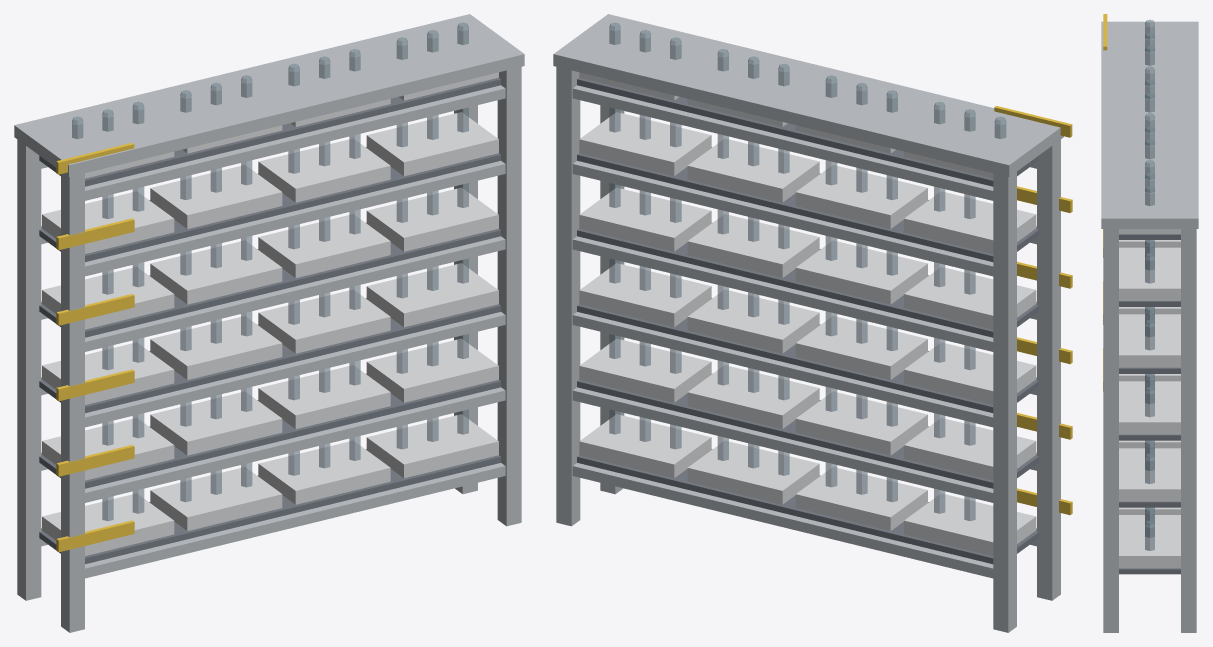
Rendered from ufo-crash-site-and-recovery-facility-sample-rack-wall-8ed345d7__17366.glb.
3 renders of one model, left to right at view 1: azimuth 30°, elevation 25°; view 2: azimuth 150°, elevation 25°; view 3: azimuth 270°, elevation 25°, orthographic. The views are drawn at different scales.
Visible parts, largest first — view 1: sample-rack-wall; view 2: sample-rack-wall; view 3: sample-rack-wall.
Part boxes in pixels (box(x1,y1,x2,y2)): sample-rack-wall: box(14, 14, 524, 632); sample-rack-wall: box(553, 14, 1072, 632); sample-rack-wall: box(1101, 14, 1198, 632).
Size of the model in its own units: 2.45 by 2.45 by 0.4998.
